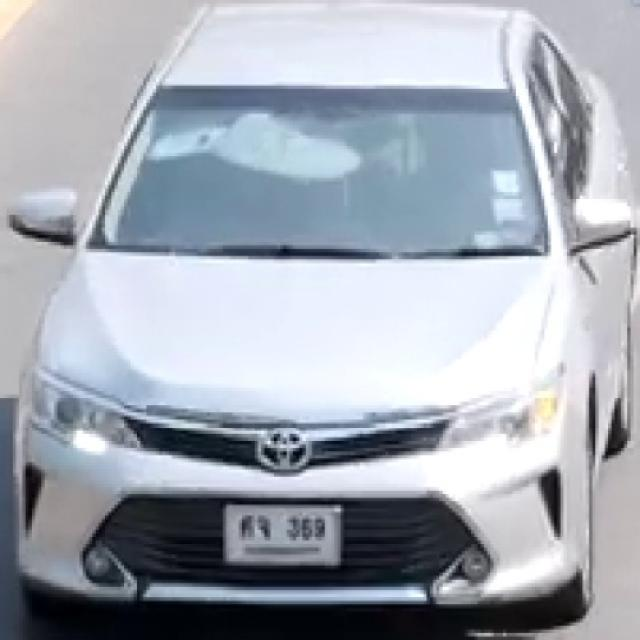plate: (220, 499, 342, 566)
